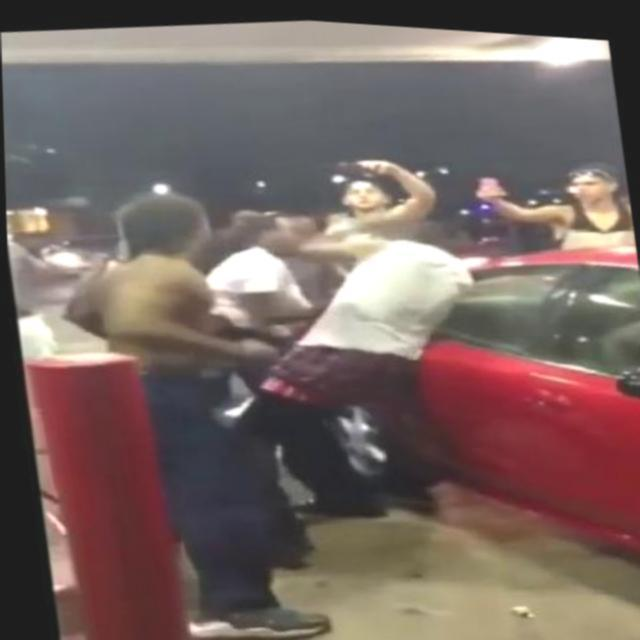fight: (61, 161, 508, 640)
